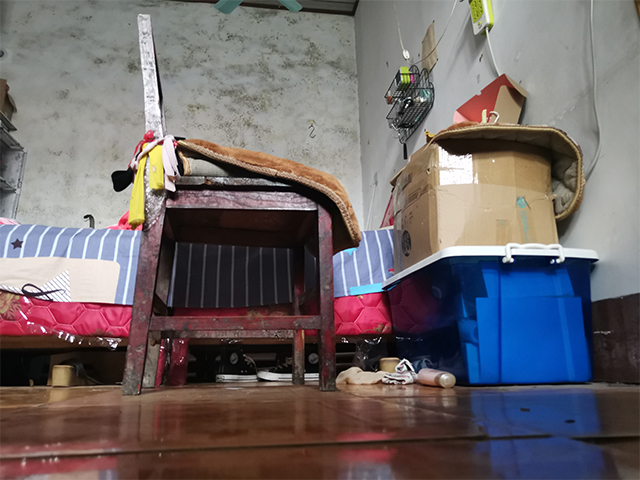bed: (1, 215, 399, 387)
socks: (331, 357, 422, 387)
stool: (119, 11, 341, 397)
